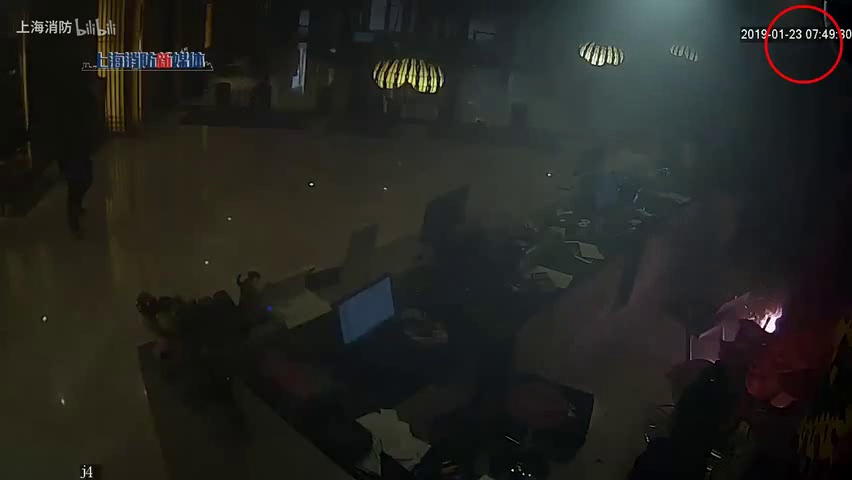fire: (747, 294, 791, 344)
